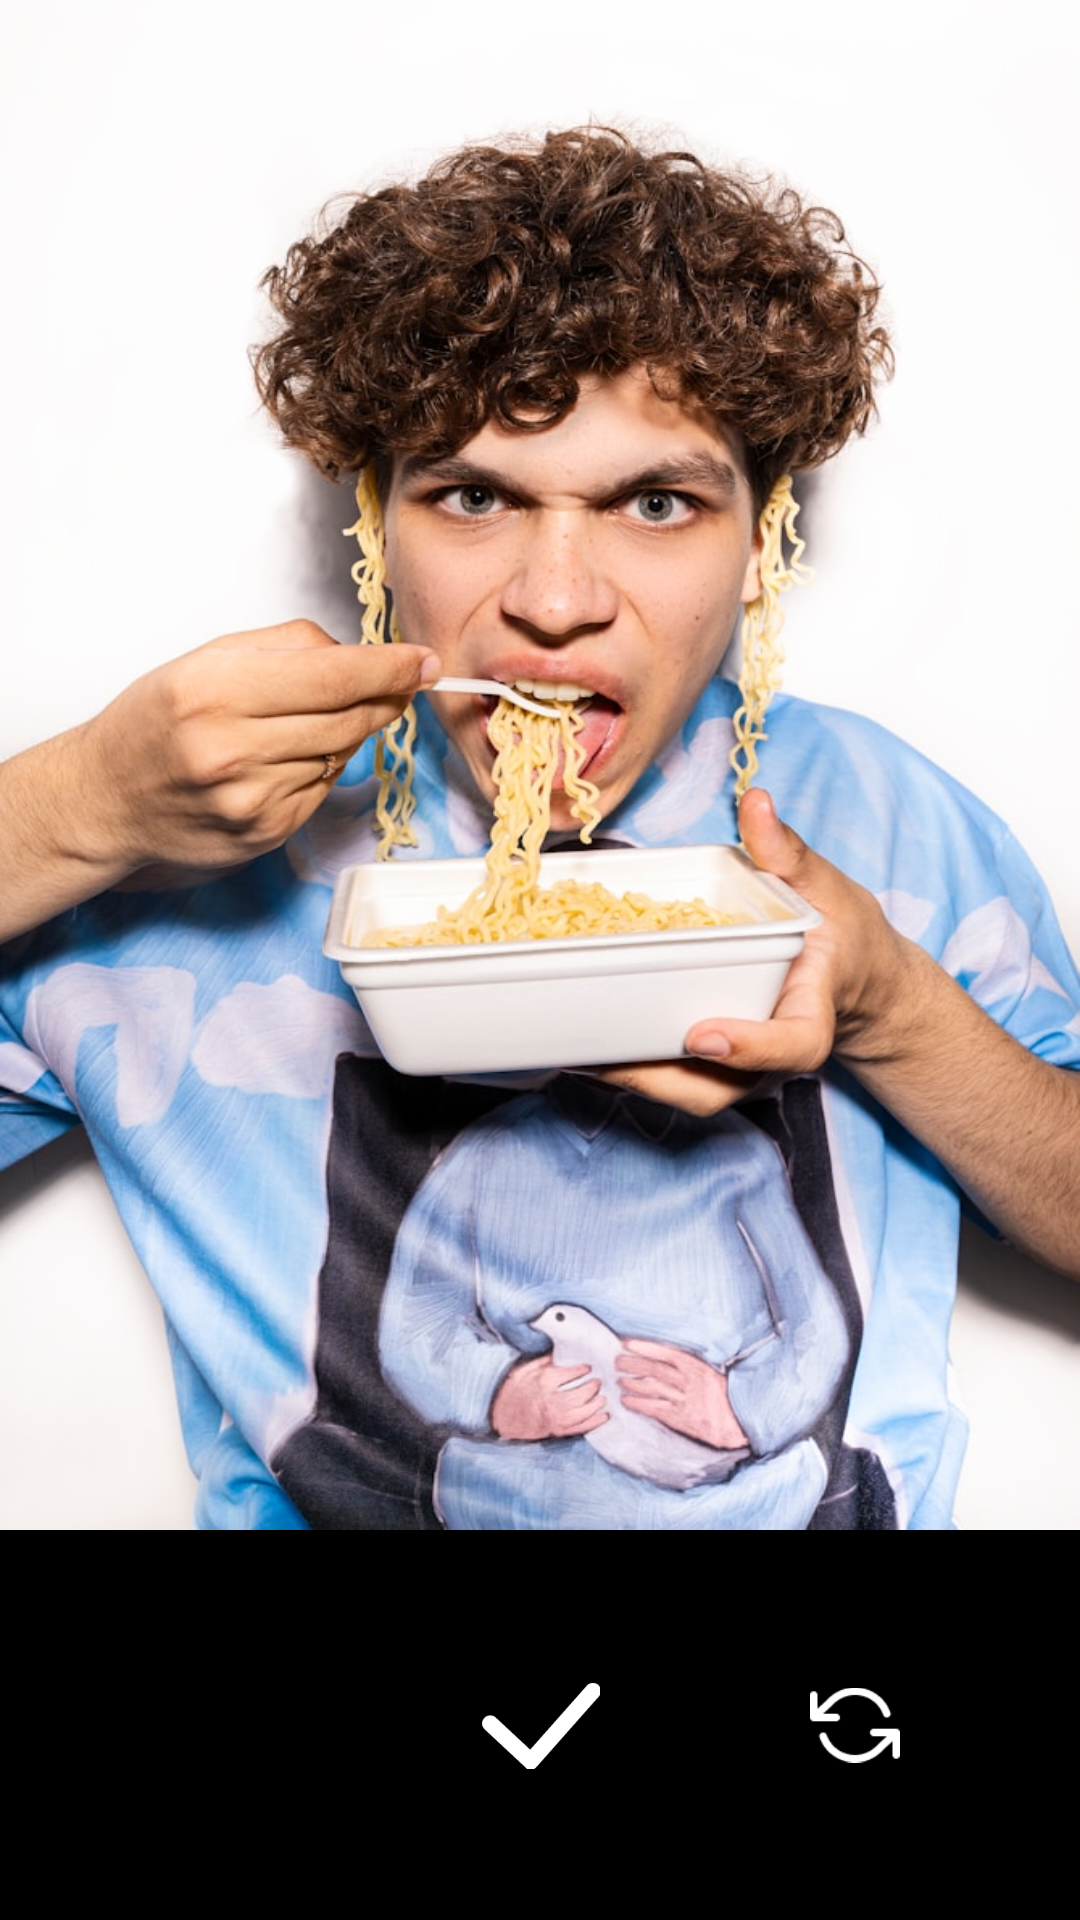

Named icons in this screenshot (1080 x 1920) and their centers, (x,y):
change camera: (855,1725)
check: (541,1726)
